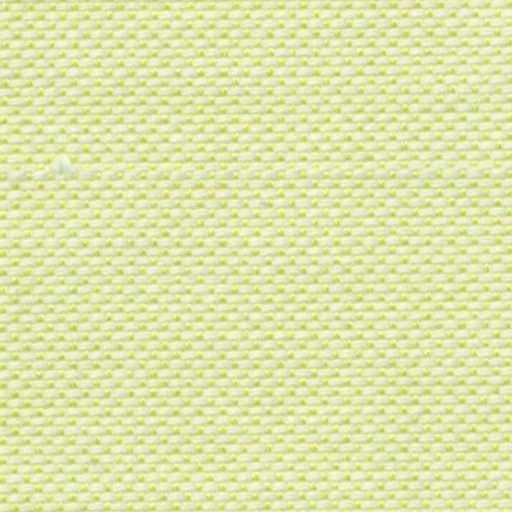TuoSha: (28, 135, 501, 211)
